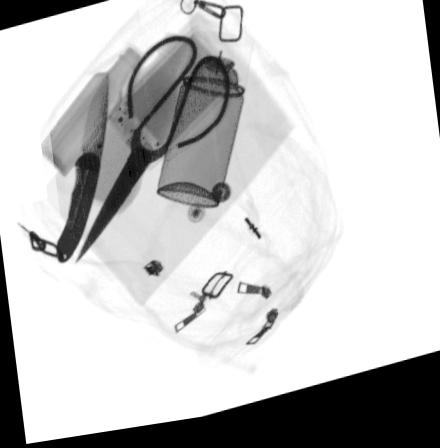Knife: (55, 71, 107, 268)
Powerbank: (103, 28, 242, 180)
Scissors: (68, 38, 232, 275)
Sprayer: (155, 35, 255, 214)
